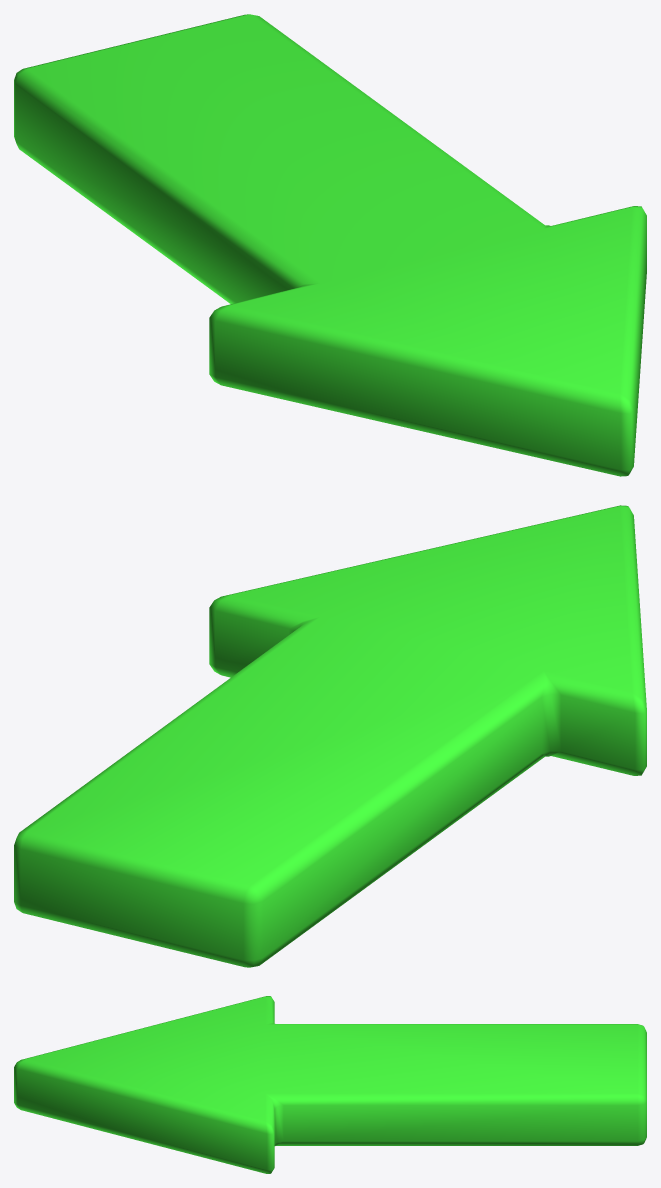
The model's file is HyperLevelItemsSketchfab.fbx.
The picture shows the model from 3 angles, top to bottom: view 1: azimuth 30°, elevation 25°; view 2: azimuth 150°, elevation 25°; view 3: azimuth 270°, elevation 25°; orthographic projection. The views are drawn at different scales.
Parts seen in each view (by area): view 1: Arrow; view 2: Arrow; view 3: Arrow.
Boxes of the visible parts, x1,y1,x2,y2 form: Arrow: (14, 14, 646, 476); Arrow: (14, 505, 646, 967); Arrow: (14, 996, 646, 1173).
Size of the model in its own units: 100 by 18.07 by 199.
